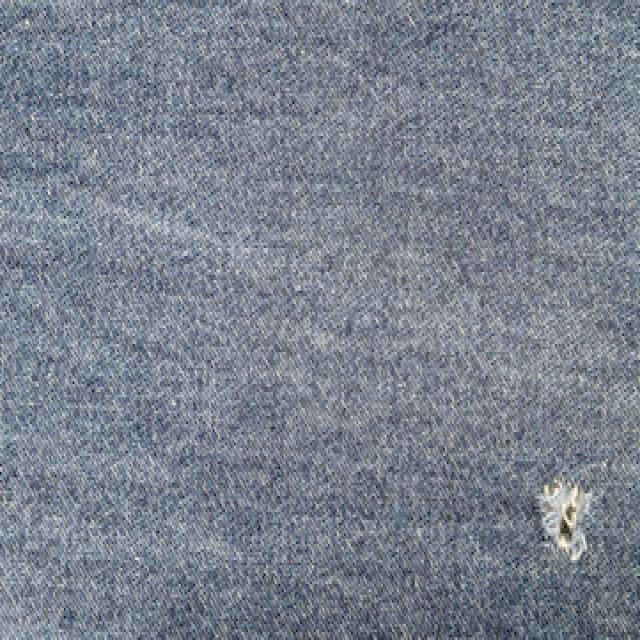seam: (499, 448, 618, 600)
